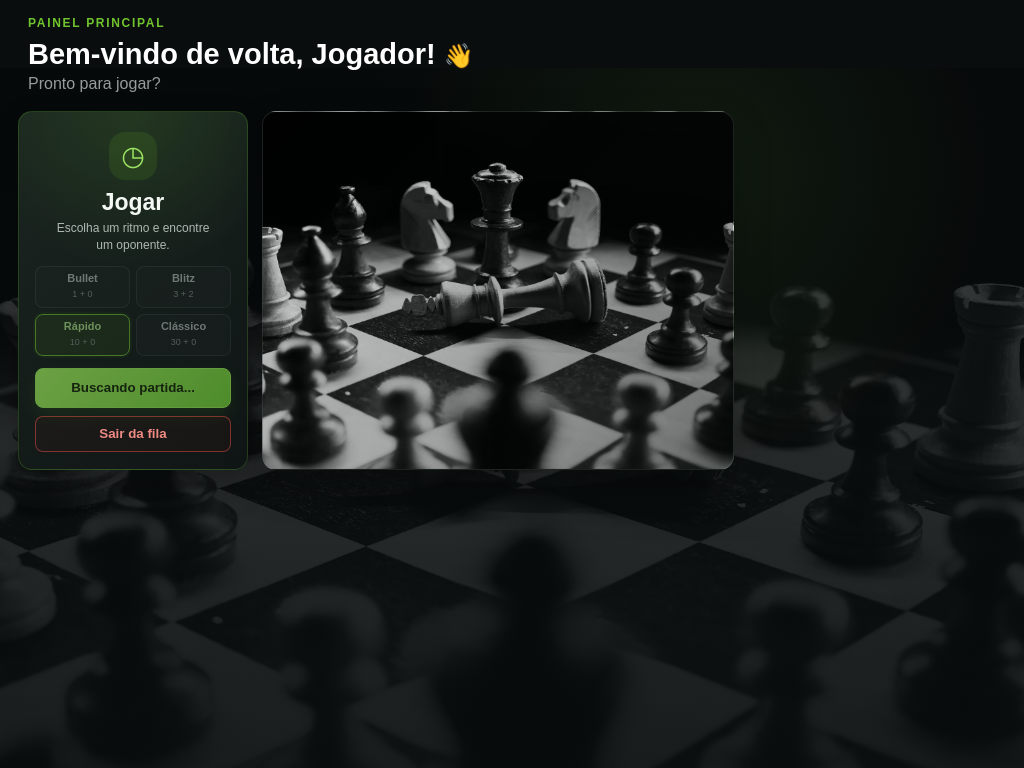
Test: cancelamento de matchmaking no lobby › recupera a fila ao abrir o lobby e permite sair dela
What coordinates should you click on to do the following:
click the button "Sair da fila"
I would click on:
 (133, 434)
Its box is [35,416,231,452].
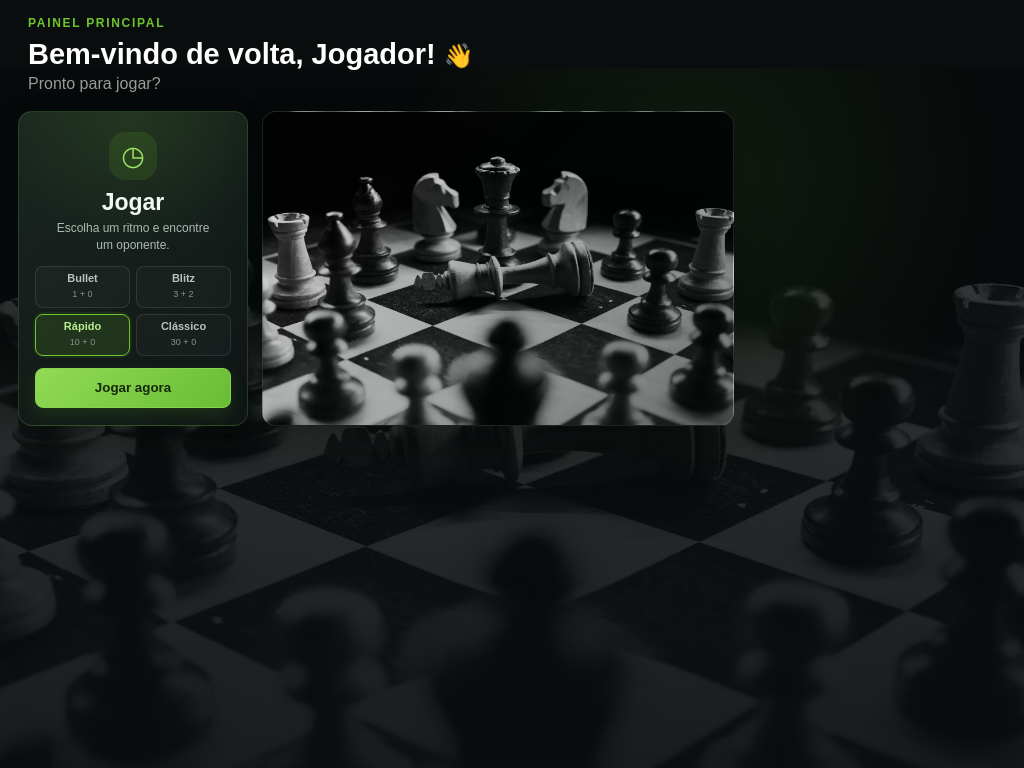
Result: the button "Jogar agora" is enabled at [35,368,231,408]
